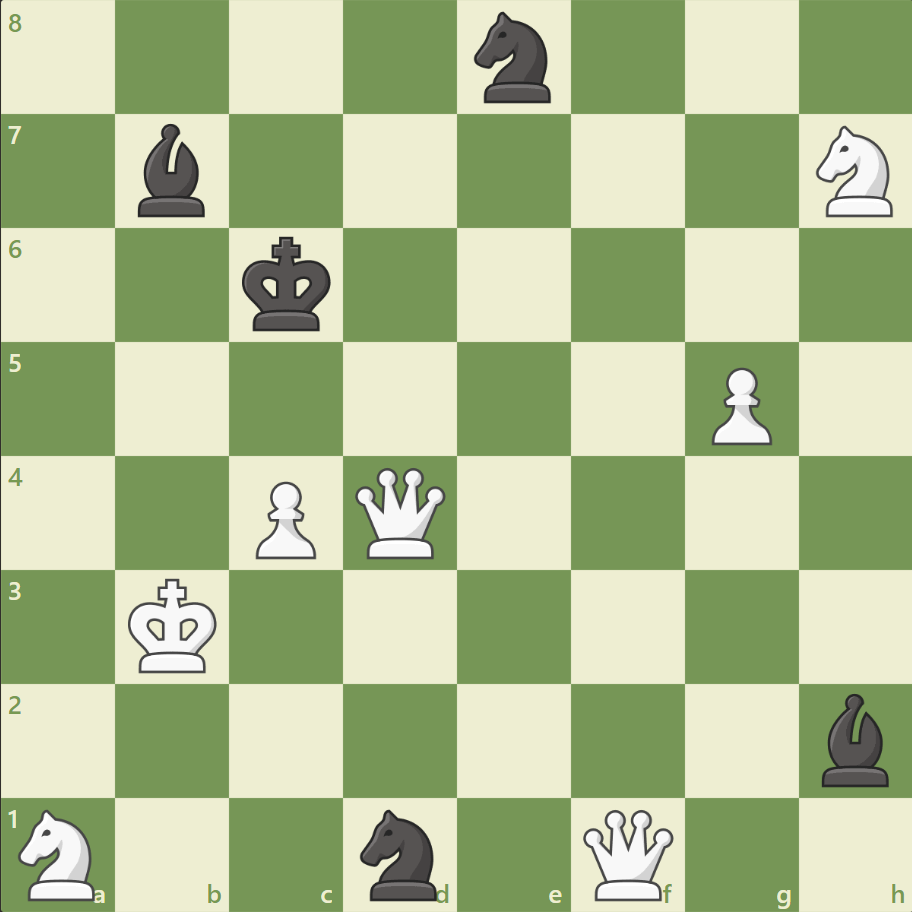K: (124, 571, 224, 679)
N: (806, 121, 903, 223), (11, 802, 108, 904)
P: (701, 359, 776, 450), (247, 473, 322, 564)
Q: (351, 463, 450, 562), (578, 804, 677, 903)
b: (812, 687, 896, 790), (131, 120, 215, 222)
k: (238, 231, 338, 339)
n: (351, 802, 449, 904), (465, 7, 562, 110)
